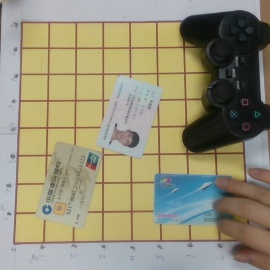card: (34, 140, 102, 229), (96, 74, 162, 159), (153, 170, 236, 226)
remote: (178, 10, 270, 151)
